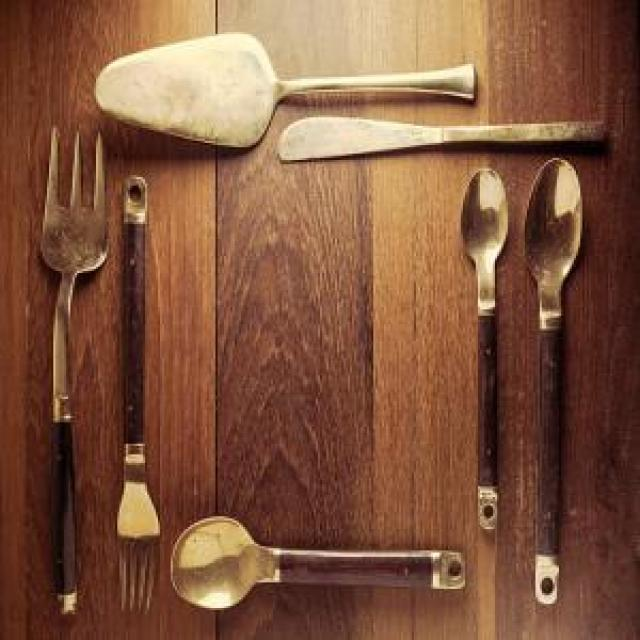knife: (275, 115, 612, 169)
